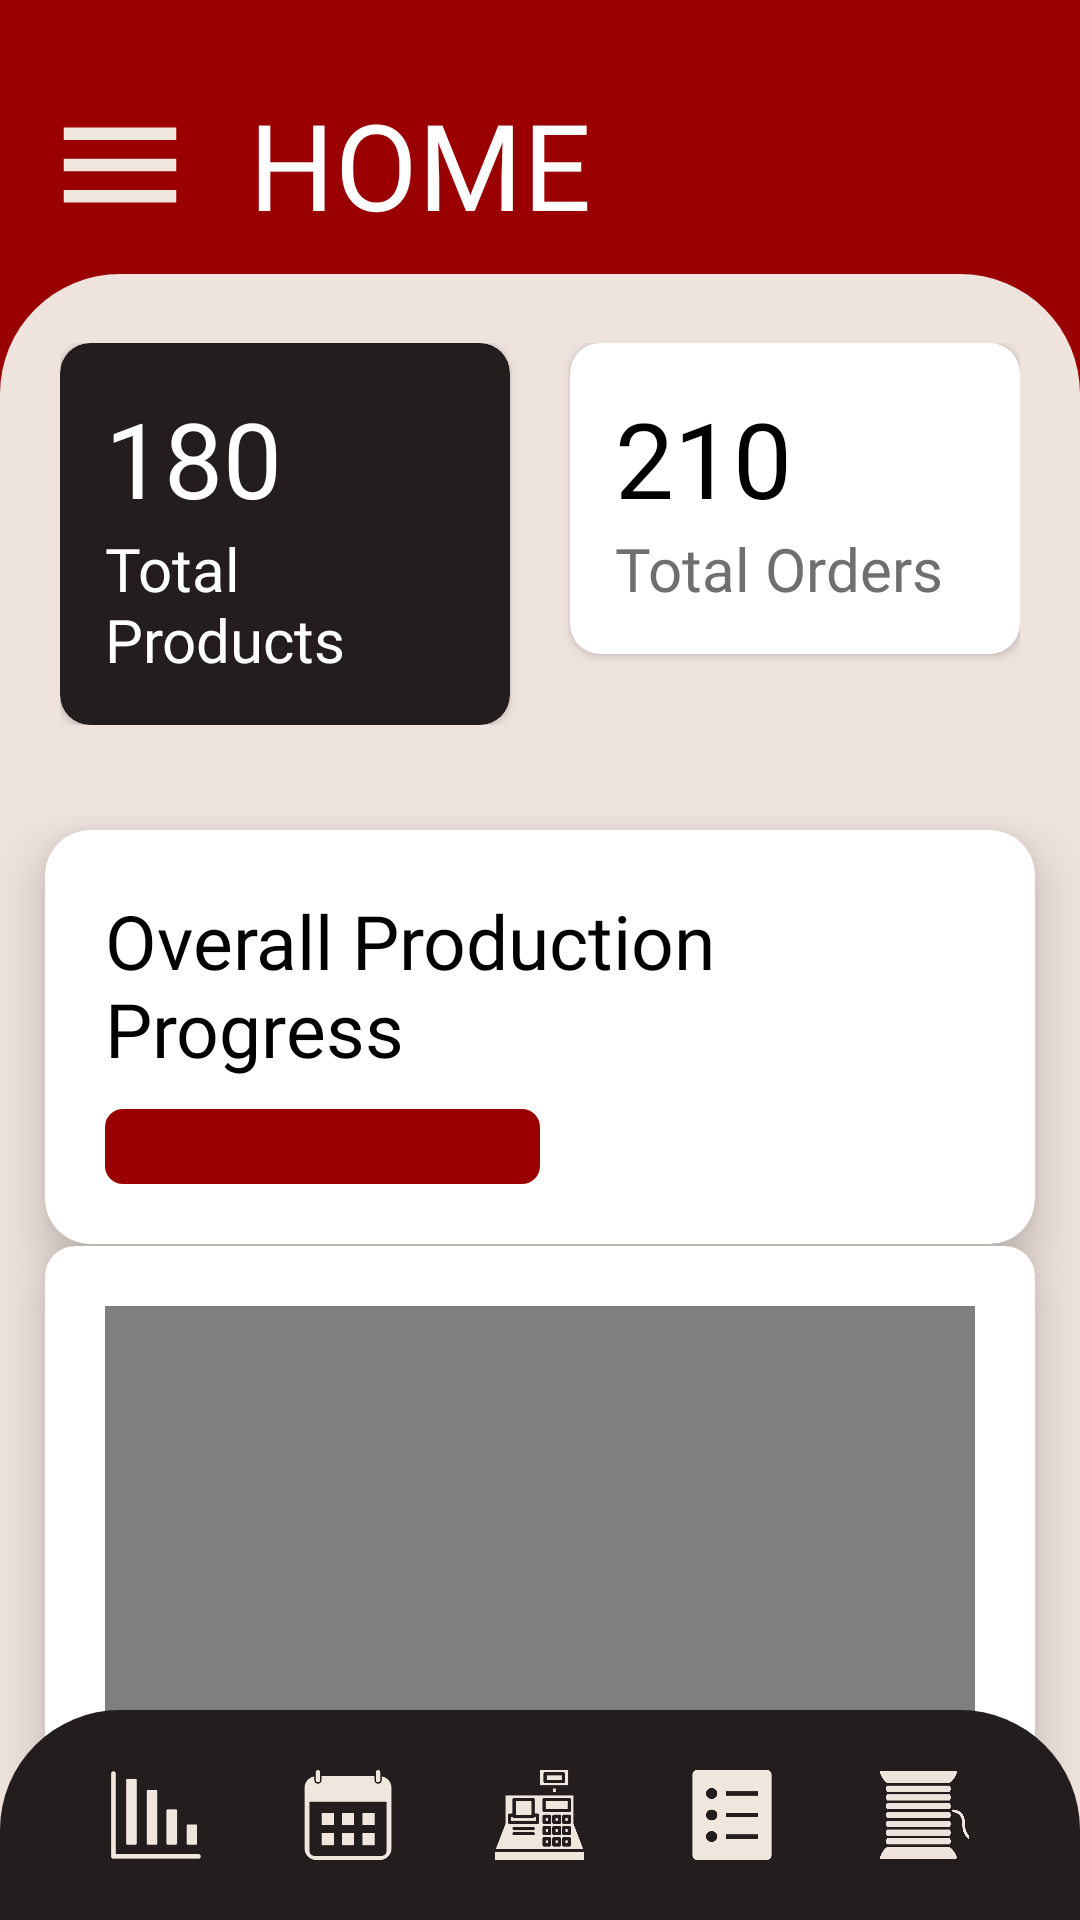

Where icons sit on this 1080px×1920px app screen, as {"x1": x1, "y1": y1, "x2": x2, "y2": y2}:
materials: {"x1": 880, "y1": 1771, "x2": 969, "y2": 1859}
Menu: {"x1": 63, "y1": 127, "x2": 177, "y2": 203}
order: {"x1": 495, "y1": 1770, "x2": 584, "y2": 1860}
products: {"x1": 692, "y1": 1770, "x2": 772, "y2": 1860}
